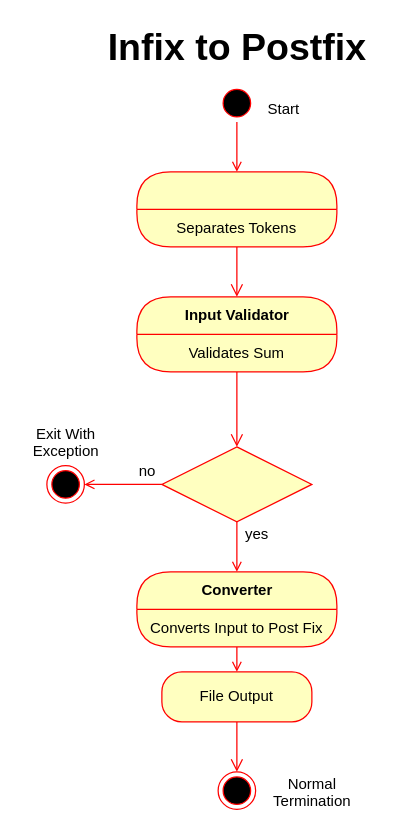
Image size: 395x833. Some labels were removed from this diagram. Each missing label, with the box of its shape:
File Input: (136, 171, 337, 247)
Valid: (161, 446, 312, 522)
